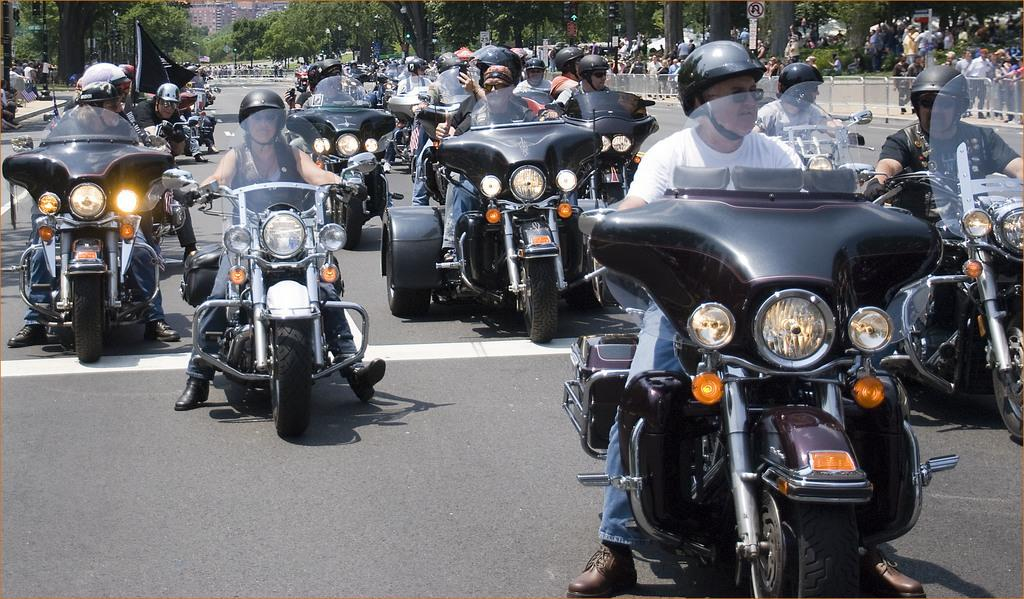helmet: (678, 39, 768, 141), (909, 64, 972, 135), (238, 88, 286, 146), (777, 61, 825, 110), (80, 81, 121, 130), (579, 54, 610, 93), (555, 46, 583, 81), (156, 83, 180, 120), (525, 57, 545, 87), (407, 57, 428, 80)
